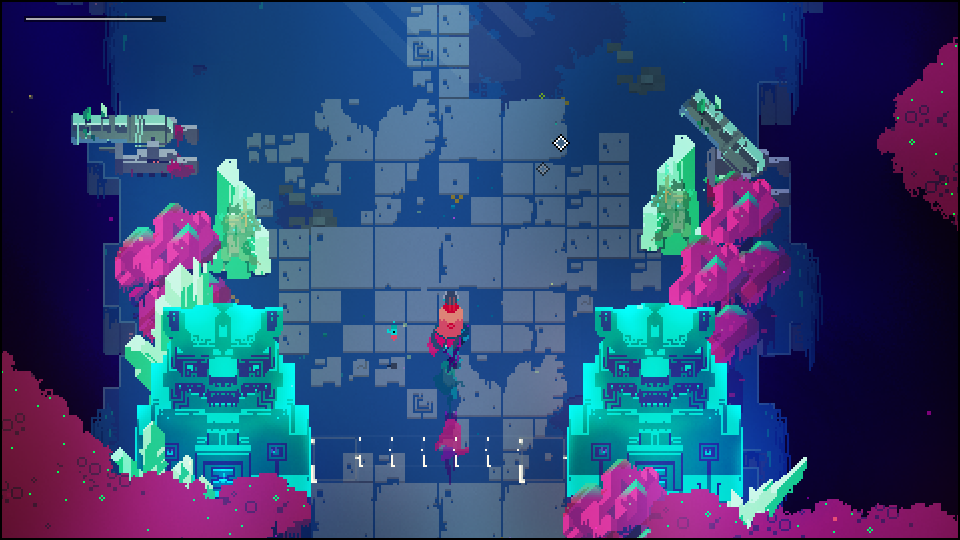player: (436, 289, 468, 348)
